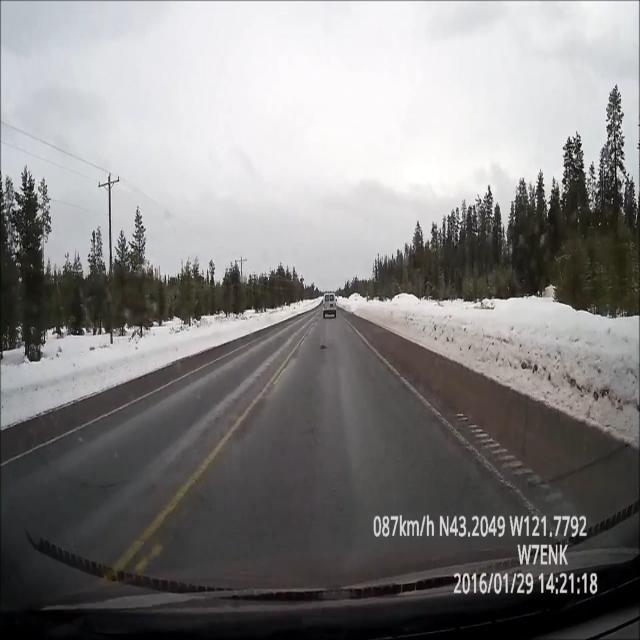Pothole: (318, 342, 328, 354)
